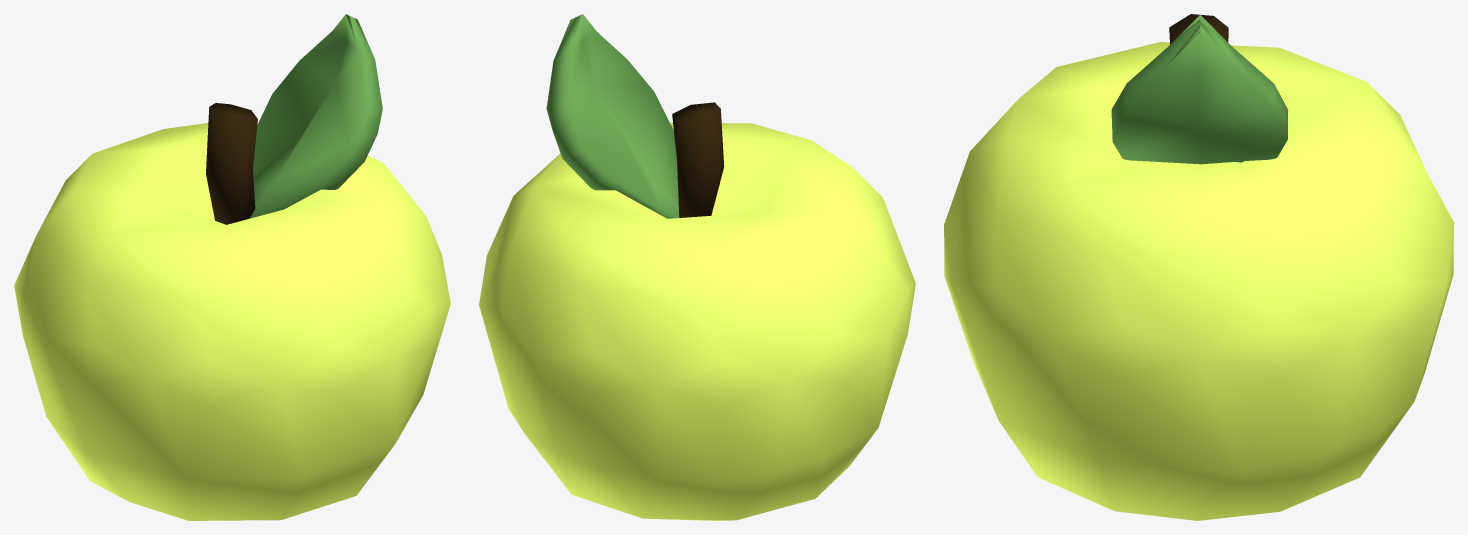
3 renders of one model, left to right at view 1: azimuth 30°, elevation 25°; view 2: azimuth 150°, elevation 25°; view 3: azimuth 270°, elevation 25°, orthographic. The views are drawn at different scales.
Visible parts, largest first — view 1: AppleGreen1; view 2: AppleGreen1; view 3: AppleGreen1.
Part boxes in pixels (<box>): AppleGreen1: <box>14,14,450,520</box>; AppleGreen1: <box>479,14,915,520</box>; AppleGreen1: <box>944,14,1453,520</box>.
Bounding box in the file's own units: 0.1619 × 0.1757 × 0.1583.
1 material, 1 textured.
